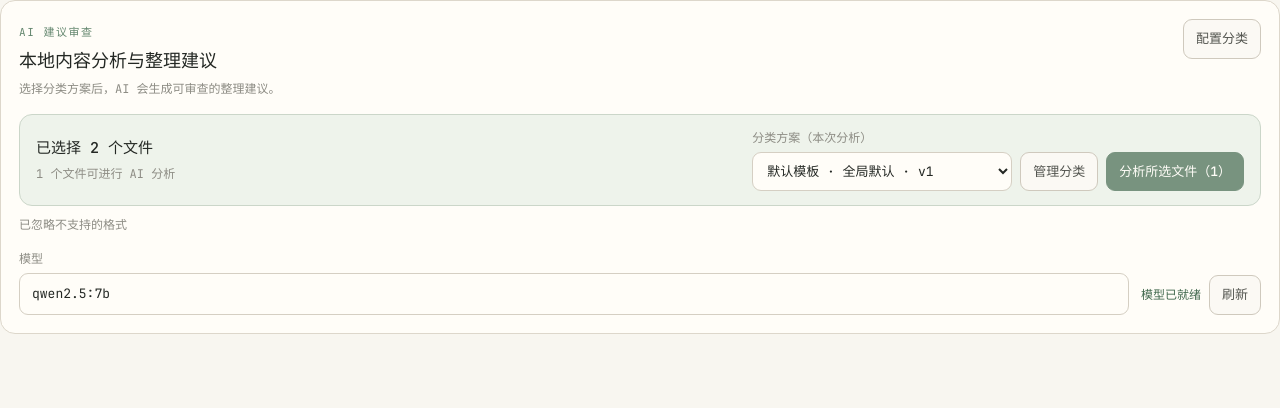
Test case: explains when a completed analysis has no reviewable results
The width and height of the screenshot is (1280, 408).
Expected: the text "模型已就绪" is shown, [1141,286,1201,304]
Click the button "分析所选文件（1）" at (1175, 171), box [1106,152,1244,191]
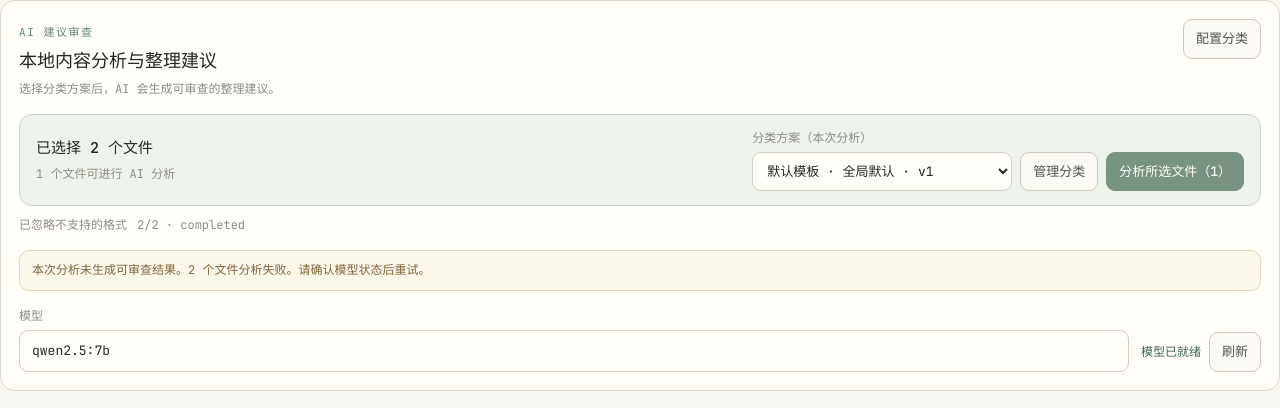
Expected: the message "本次分析未生成可审查结果。2 个文件分析失败。请确认模型状态后重试。" is shown, [19,250,1261,291]
